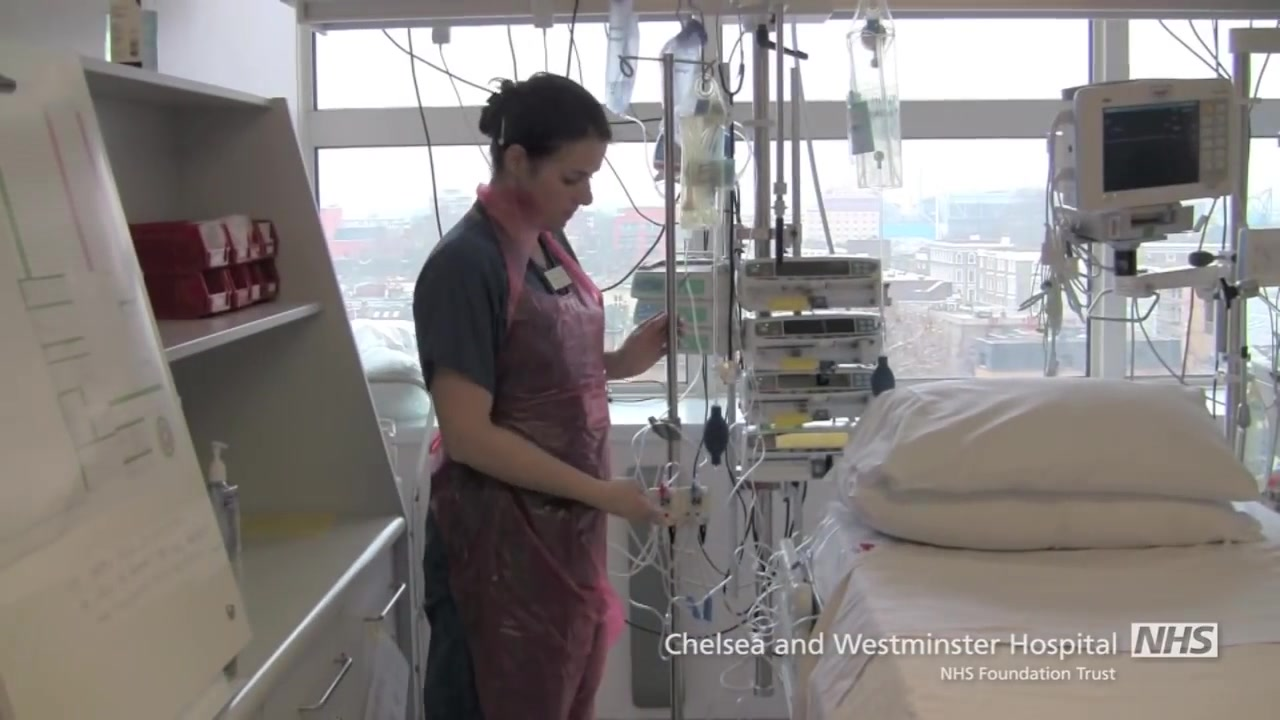bedrail: (770, 536, 814, 720)
bedside_monitor: (1072, 76, 1243, 215)
dispenser: (206, 440, 243, 561)
handle: (296, 652, 355, 710), (365, 579, 410, 623)
hospital_bed: (772, 373, 1280, 720)
iv_pole: (612, 48, 721, 720)
staff: (409, 73, 685, 720)
syringe_pump: (737, 364, 878, 422), (736, 255, 877, 313), (739, 317, 880, 374), (631, 269, 714, 303), (632, 302, 715, 335), (633, 330, 716, 362)
